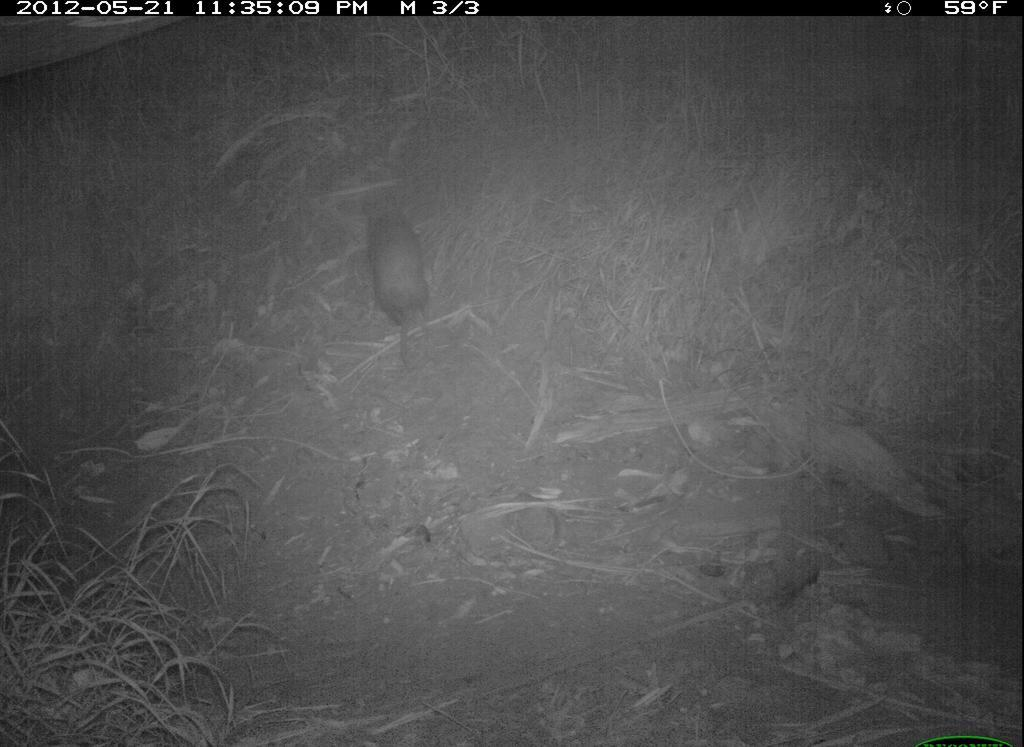opossum: (347, 185, 451, 376)
